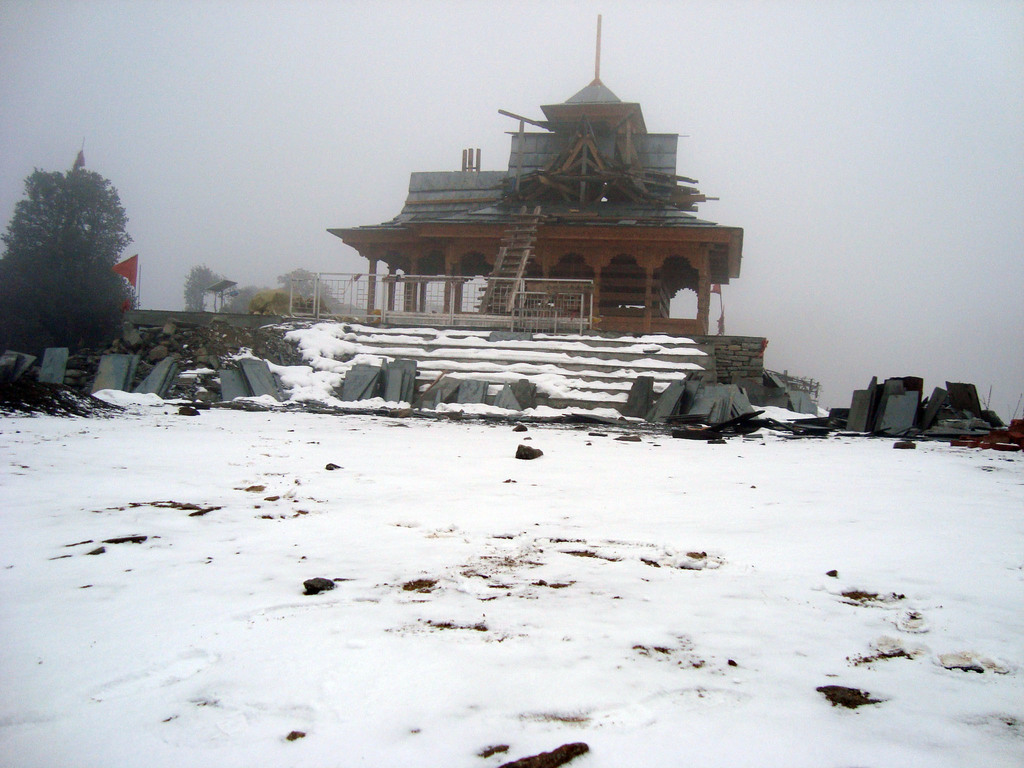Tree: (0, 140, 141, 355), (183, 261, 223, 312), (281, 265, 329, 296)
